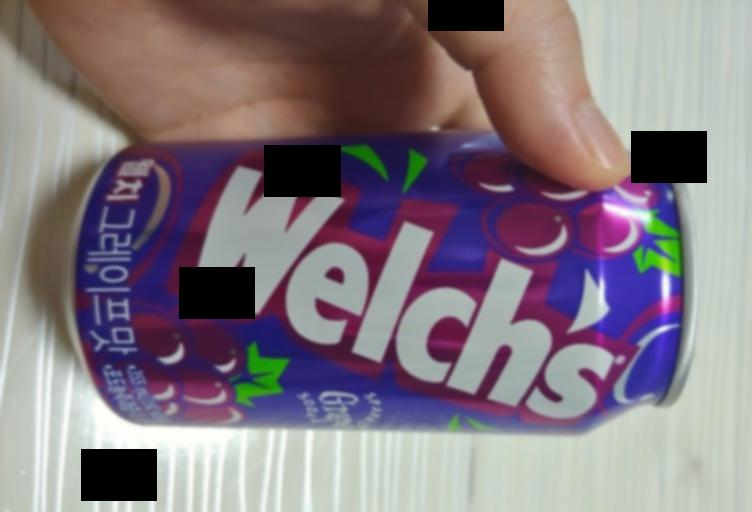welchs_grape: (61, 127, 712, 442)
